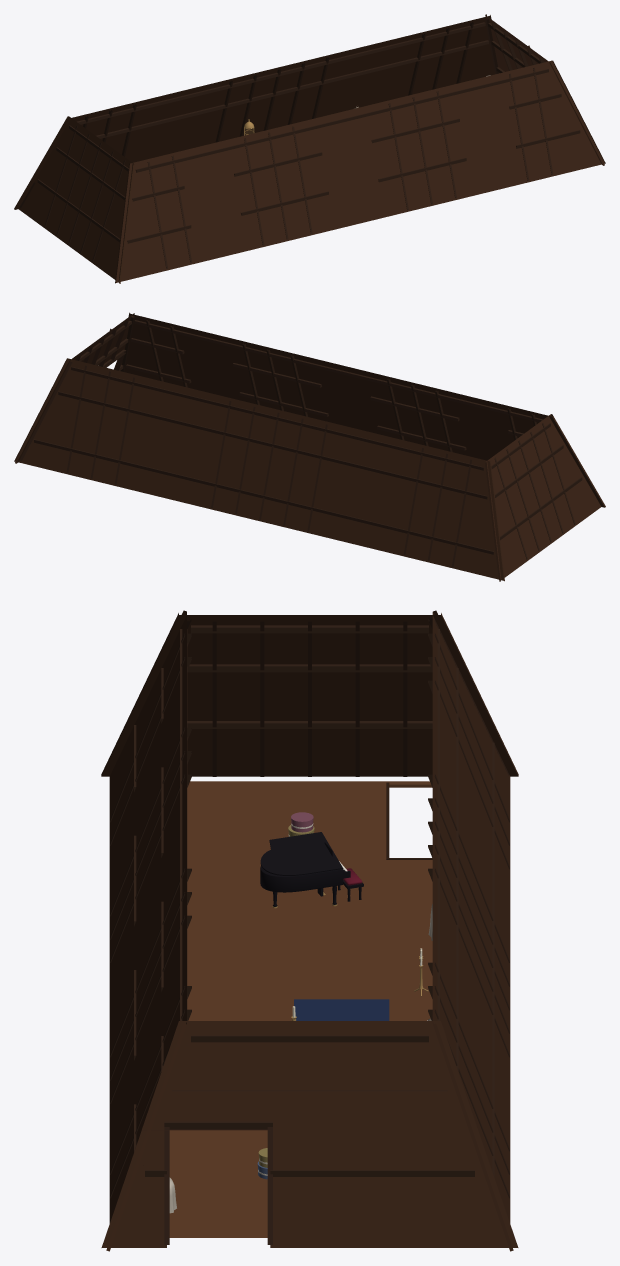
File: attic.glb
3 renders of one model, top to bottom at view 1: azimuth 30°, elevation 25°; view 2: azimuth 150°, elevation 25°; view 3: azimuth 270°, elevation 25°, orthographic. The views are drawn at different scales.
Visible parts, largest first — view 1: Att_slope-front, Att_slope-back, Att_slope-left, Att_slope-right; view 2: Att_slope-back, Att_slope-front, Att_slope-left, Att_slope-right; view 3: Att_main, Att_slope-right, Att_slope-left, Att_slope-back, Att_slope-front.
Part boxes in pixels (x1=…): Att_slope-front: x1=115, y1=60, x2=605, y2=283; Att_slope-back: x1=14, y1=15, x2=498, y2=209; Att_slope-left: x1=18, y1=116, x2=134, y2=283; Att_slope-right: x1=485, y1=14, x2=604, y2=165; Att_slope-back: x1=14, y1=358, x2=504, y2=581; Att_slope-front: x1=120, y1=312, x2=605, y2=507; Att_slope-left: x1=485, y1=414, x2=601, y2=581; Att_slope-right: x1=15, y1=313, x2=134, y2=463; Att_main: x1=169, y1=781, x2=432, y2=1237; Att_slope-right: x1=101, y1=1021, x2=518, y2=1247; Att_slope-left: x1=101, y1=613, x2=518, y2=776; Att_slope-back: x1=428, y1=610, x2=513, y2=1251; Att_slope-front: x1=106, y1=610, x2=191, y2=1251.
Bounding box in the file's own units: 28.5 × 5.44 × 10.5.
